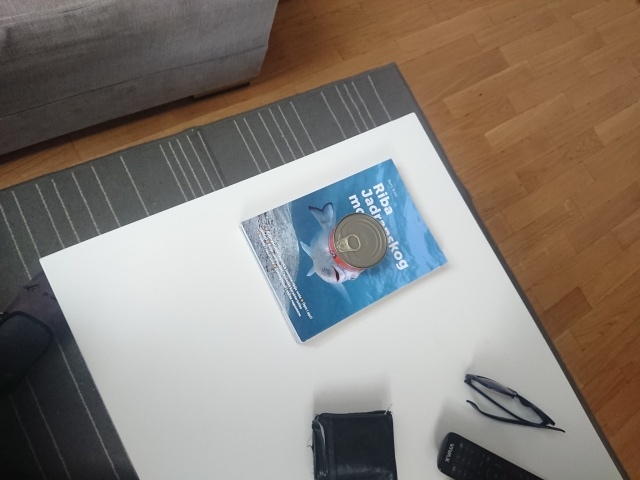Gavrilovic Pork Liver Pate 100g: (325, 210, 389, 272)
